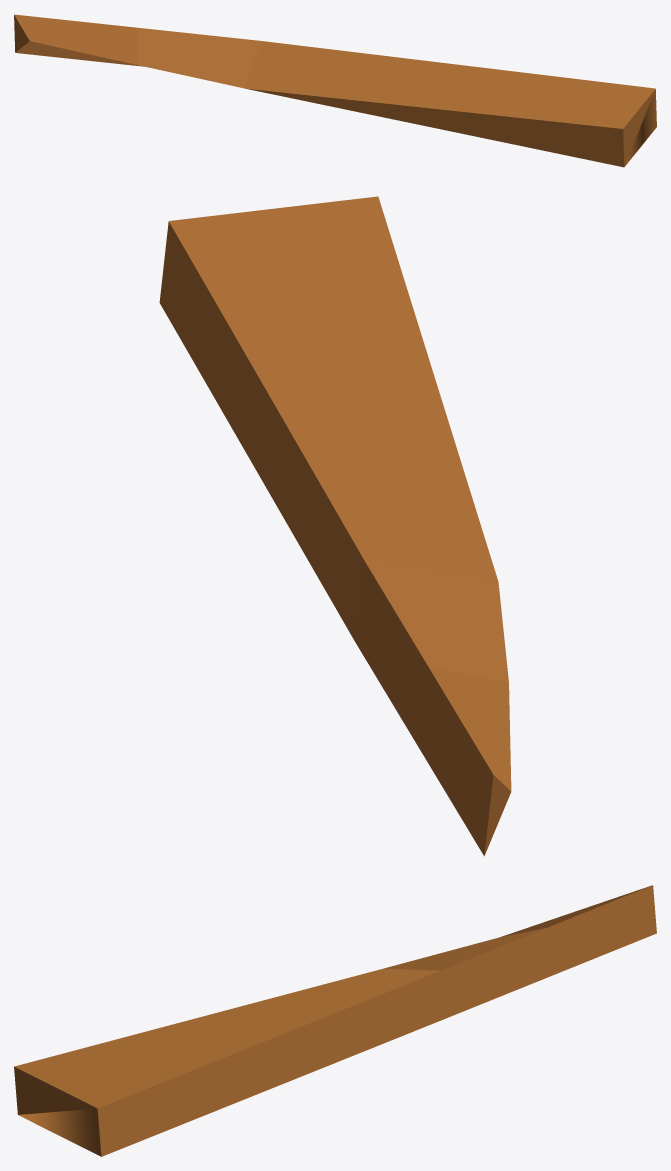
The model's file is copper_scythe_head.glb.
3 renders of one model, top to bottom at view 1: azimuth 30°, elevation 25°; view 2: azimuth 150°, elevation 25°; view 3: azimuth 270°, elevation 25°, orthographic. The views are drawn at different scales.
Parts seen in each view (by area): view 1: copper_scythe_head; view 2: copper_scythe_head; view 3: copper_scythe_head.
Boxes of the visible parts, x1,y1,x2,y2 form: copper_scythe_head: (14,14,656,167); copper_scythe_head: (159,196,511,856); copper_scythe_head: (14,885,656,1156).
Bounding box in the file's own units: 0.1449 × 0.0158 × 0.1719.
